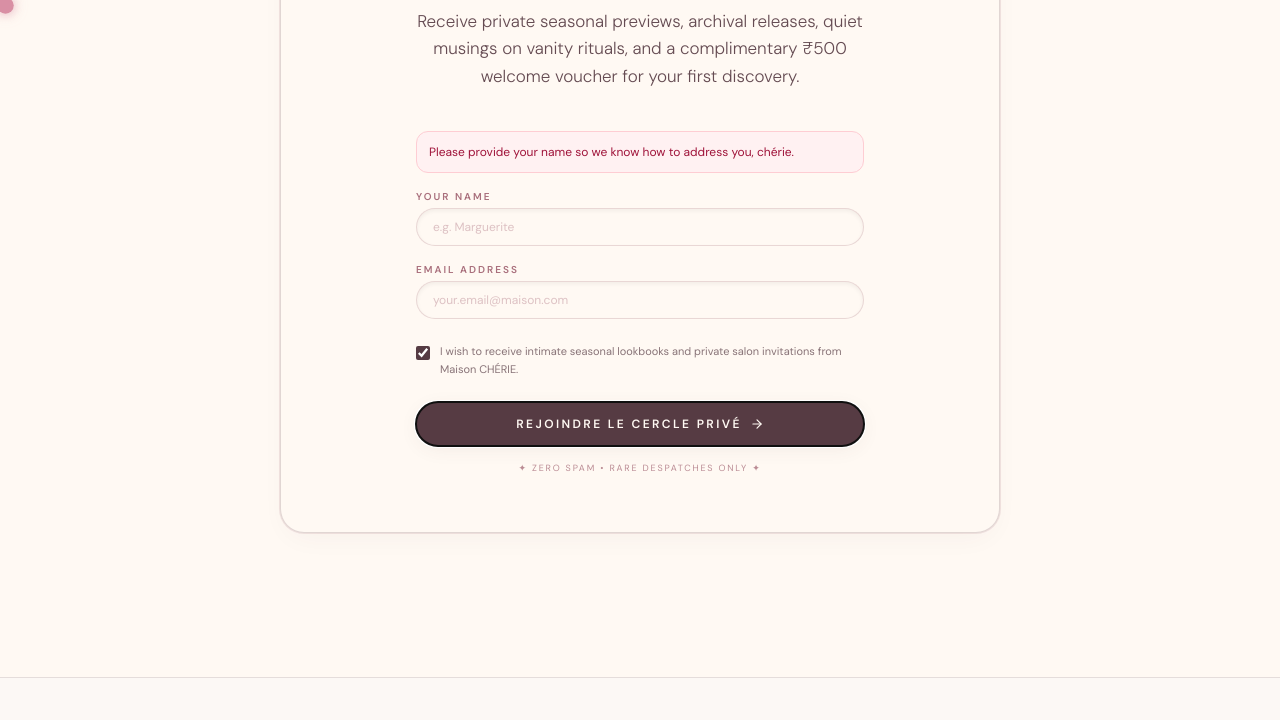
Test case: CHÉRIE Boutique Website - Comprehensive End-to-End Suite › 5. Tests Newsletter form validation and personalized welcome voucher
The width and height of the screenshot is (1280, 720).
Earlier steps of the test are not shown.
(page scrolled)
Check: the text "Please provide your name" is shown, box [429,144,794,160]
Type "Geneviève" into the field with placeholder "e.g. Marguerite" at {"x": 640, "y": 227}, box [416,208,864,246]
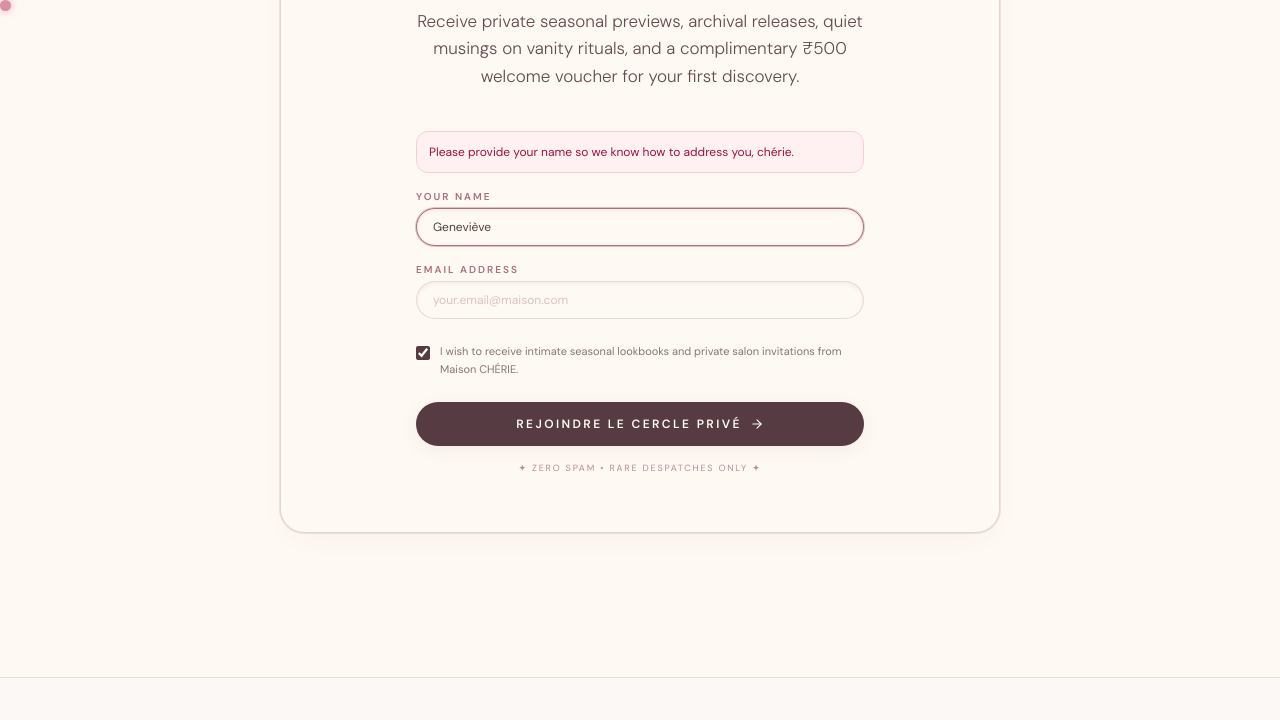
Click the button "Rejoindre Le Cercle Privé" at {"x": 640, "y": 424}, box [416,402,864,446]
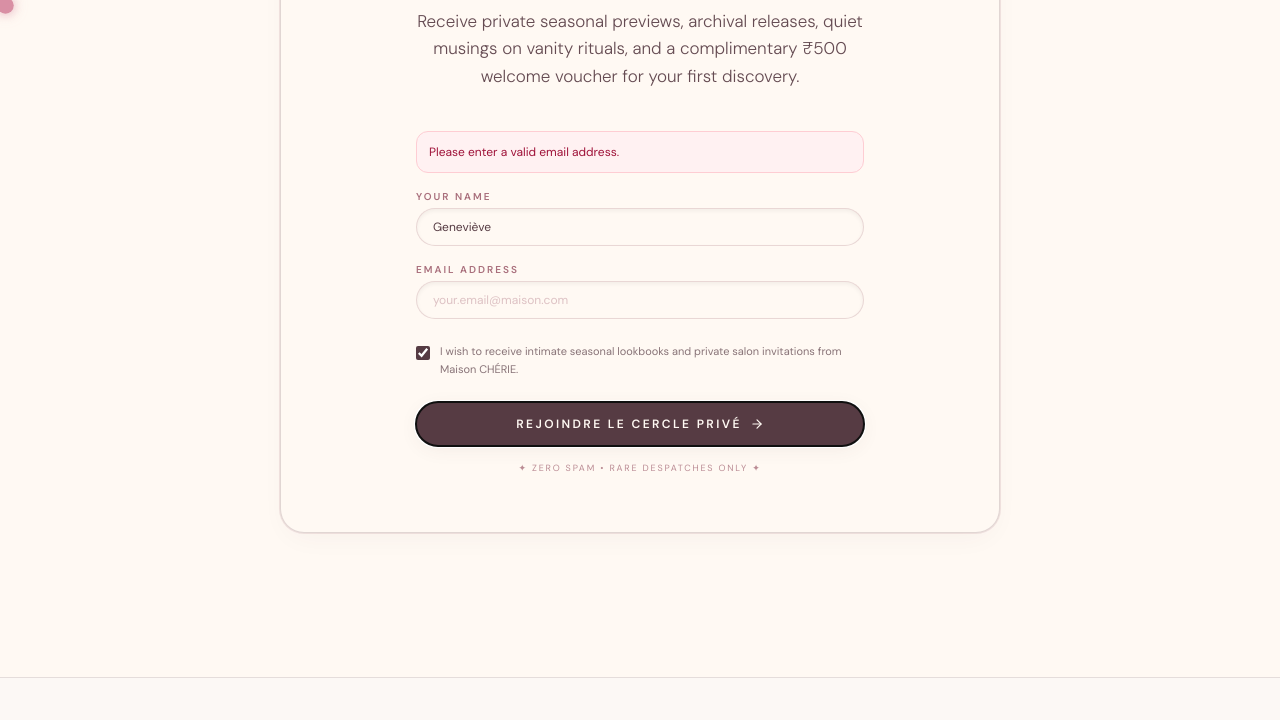
Check: the text "Please enter a valid email address." is shown, box [416,131,864,173]
Type "genevieve@paris.fr" into the field with placeholder "your.email@maison.com" at {"x": 640, "y": 300}, box [416,281,864,319]
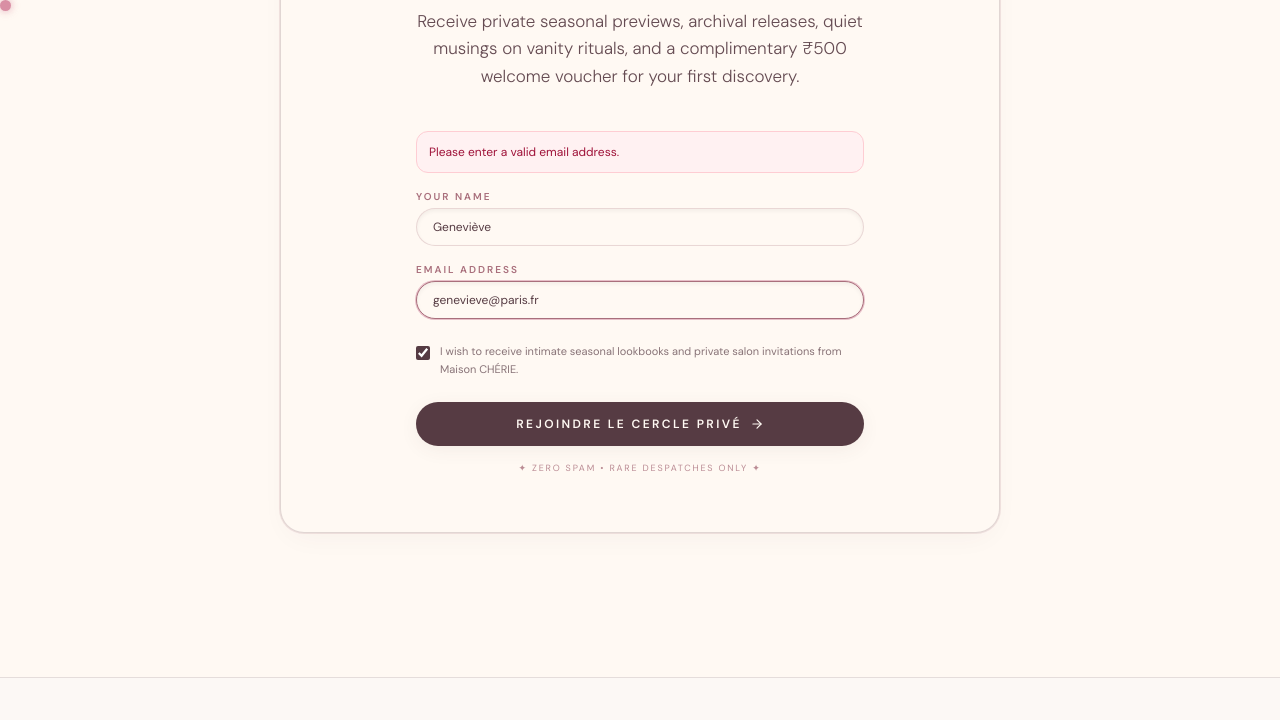
Click the button "Rejoindre Le Cercle Privé" at {"x": 640, "y": 424}, box [416,402,864,446]
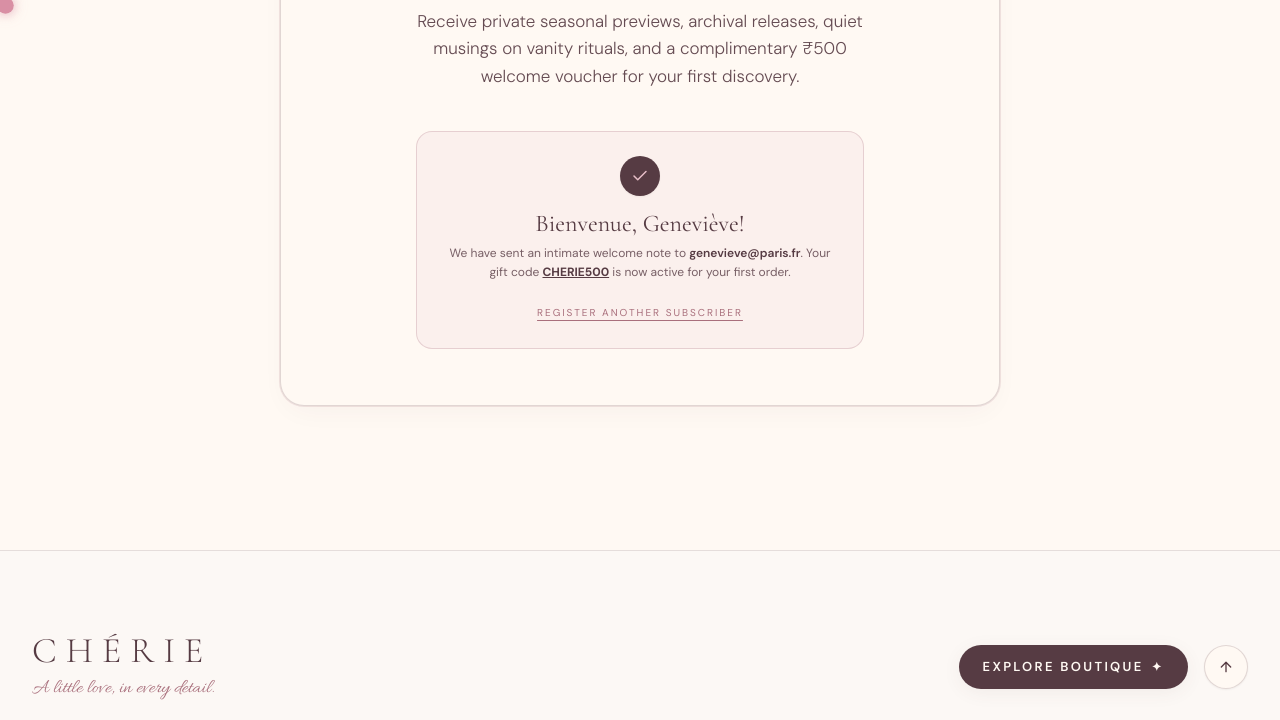
Check: the heading "Bienvenue, Geneviève!" is shown, box [535,209,745,238]
Check: the text "CHERIE500" is shown, box [542,264,609,280]
